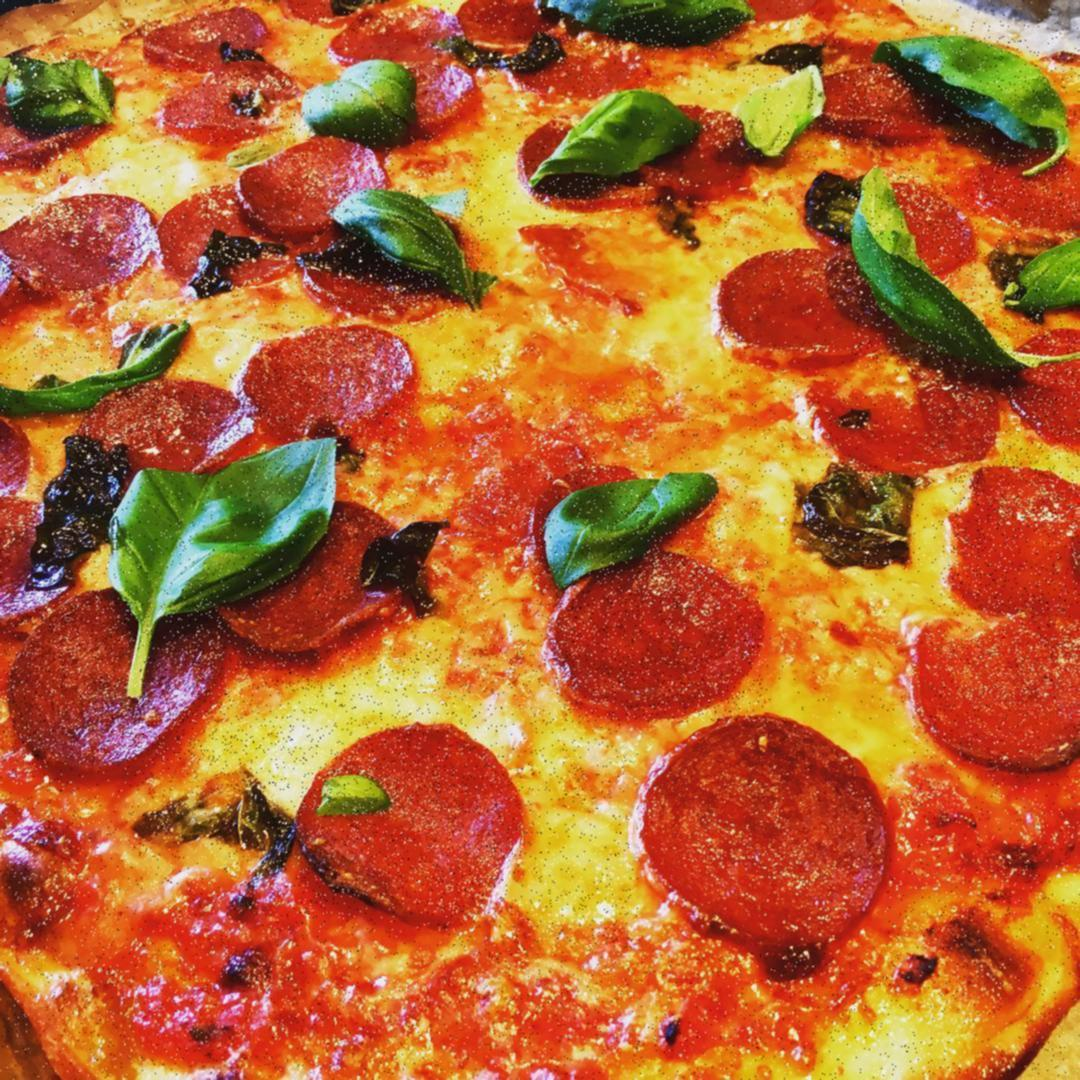Basil: (102, 438, 340, 601), (850, 168, 1038, 372), (538, 473, 722, 591), (887, 37, 1073, 147), (0, 321, 193, 415), (335, 188, 486, 304), (530, 94, 700, 178), (538, 0, 753, 50), (302, 67, 414, 142), (0, 53, 114, 120), (738, 66, 820, 155), (998, 238, 1080, 310)
Cheese: (505, 228, 710, 384), (219, 643, 564, 726), (765, 570, 929, 724), (513, 741, 632, 949), (214, 725, 340, 794)
Olives: (0, 0, 1080, 1080)
Pepperoni: (640, 722, 885, 953), (295, 725, 527, 915), (0, 592, 230, 765), (548, 558, 769, 722), (230, 498, 410, 650), (910, 613, 1080, 765), (712, 248, 886, 360), (807, 364, 998, 464), (952, 465, 1080, 610), (250, 325, 410, 432), (157, 176, 291, 293), (0, 196, 155, 295), (82, 385, 250, 470), (820, 65, 990, 144), (519, 121, 655, 211), (1002, 327, 1080, 463), (163, 69, 298, 145), (509, 41, 656, 103), (656, 105, 757, 194), (980, 146, 1080, 235), (886, 181, 978, 275), (328, 0, 455, 66), (144, 7, 271, 68), (0, 120, 112, 171), (412, 66, 482, 130), (456, 0, 555, 42)
